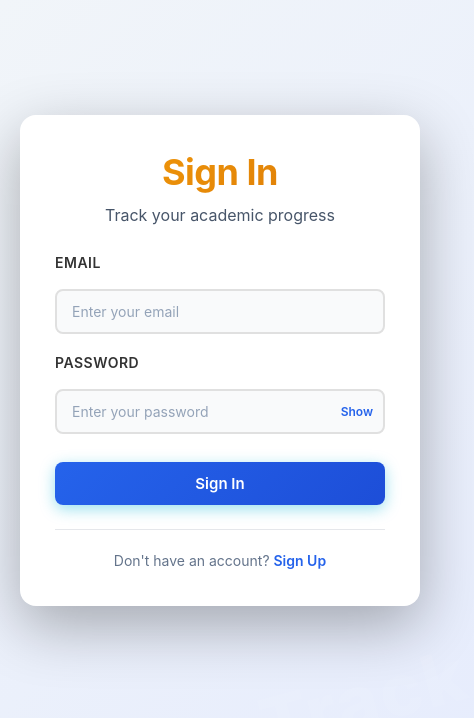
Scenario: Login Component › should clear error message when user types in the form
Submit with invalid credentials
Type "wrong@example.com" into the field with placeholder "Enter your email" at point(220, 311), box [55, 288, 385, 334]
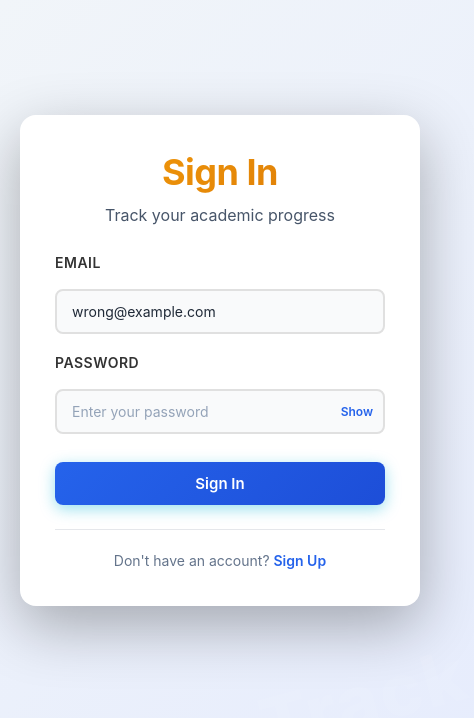
Type "wrongpassword" into the password field with placeholder "Enter your password" at point(220, 411), box [55, 388, 385, 434]
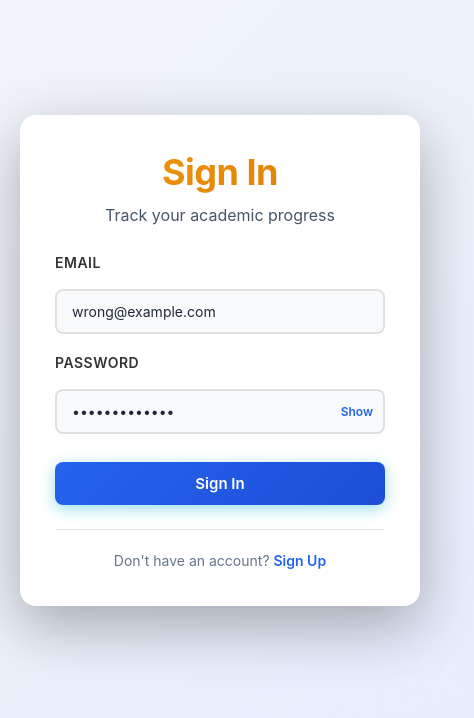
Click the button "Sign In" at point(220, 483), box [55, 462, 385, 504]
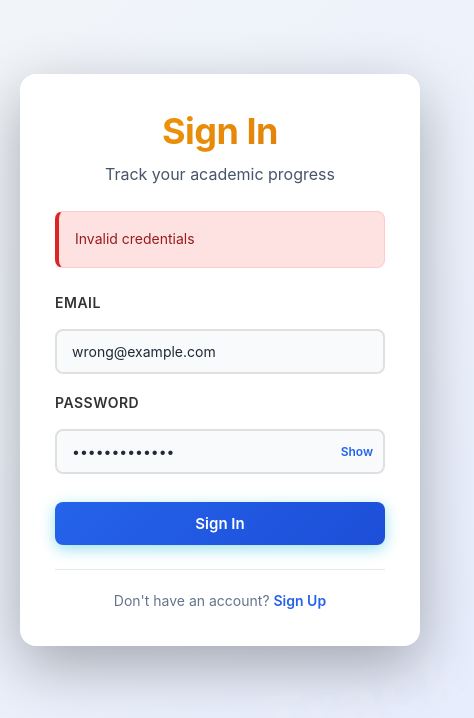
Expected: the text "Invalid credentials" is shown, [55, 211, 385, 268]
User types in password field and error should clear
Type "newpassword" into the password field with placeholder "Enter your password" at point(220, 451), box [55, 429, 385, 474]
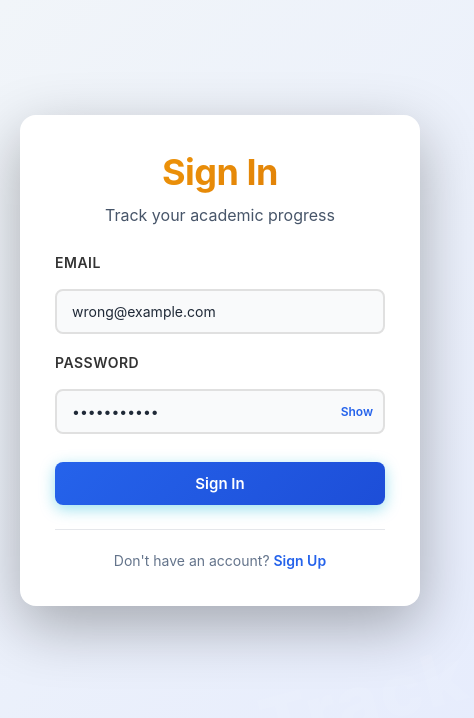
Expected: the text "Invalid credentials" is gone
